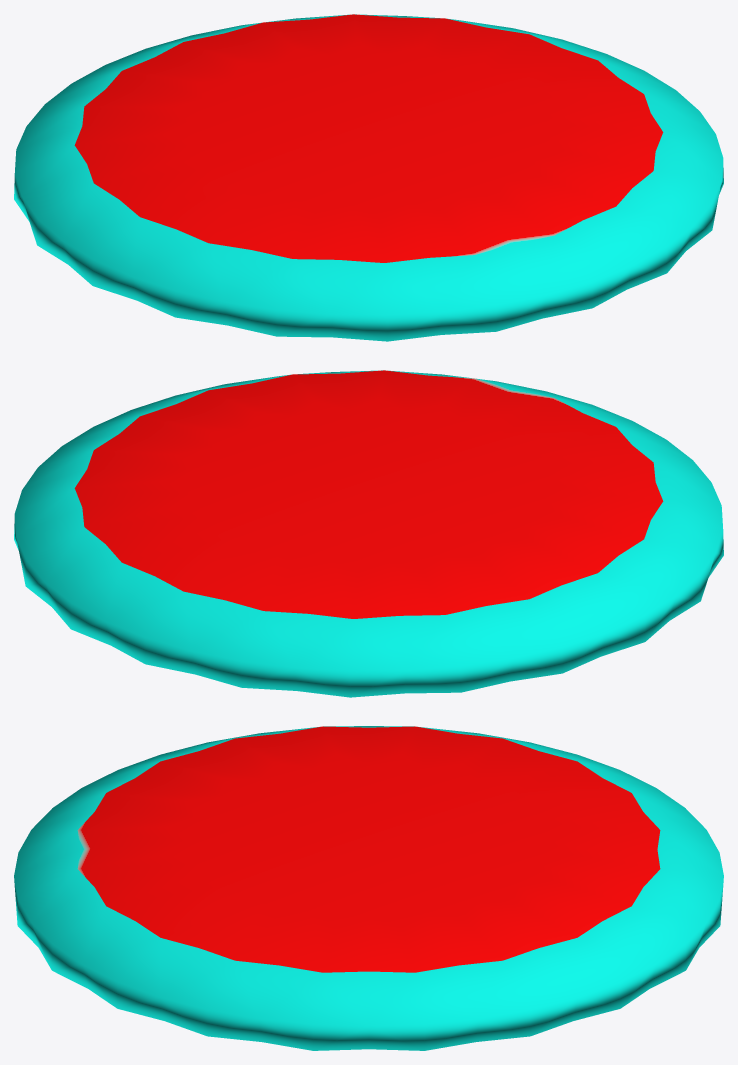
Rendered from pickup_red.fbx.
The picture shows the model from 3 angles, top to bottom: view 1: azimuth 30°, elevation 25°; view 2: azimuth 150°, elevation 25°; view 3: azimuth 270°, elevation 25°; orthographic projection.
Parts seen in each view (by area): view 1: pCylinder1; view 2: pCylinder1; view 3: pCylinder1.
Boxes of the visible parts, x1,y1,x2,y2 form: pCylinder1: (14, 14, 723, 341); pCylinder1: (14, 370, 723, 697); pCylinder1: (14, 726, 723, 1050).
Size of the model in its own units: 1.75 by 0.1917 by 1.75.
Materials: 1 (1 with a texture image).
